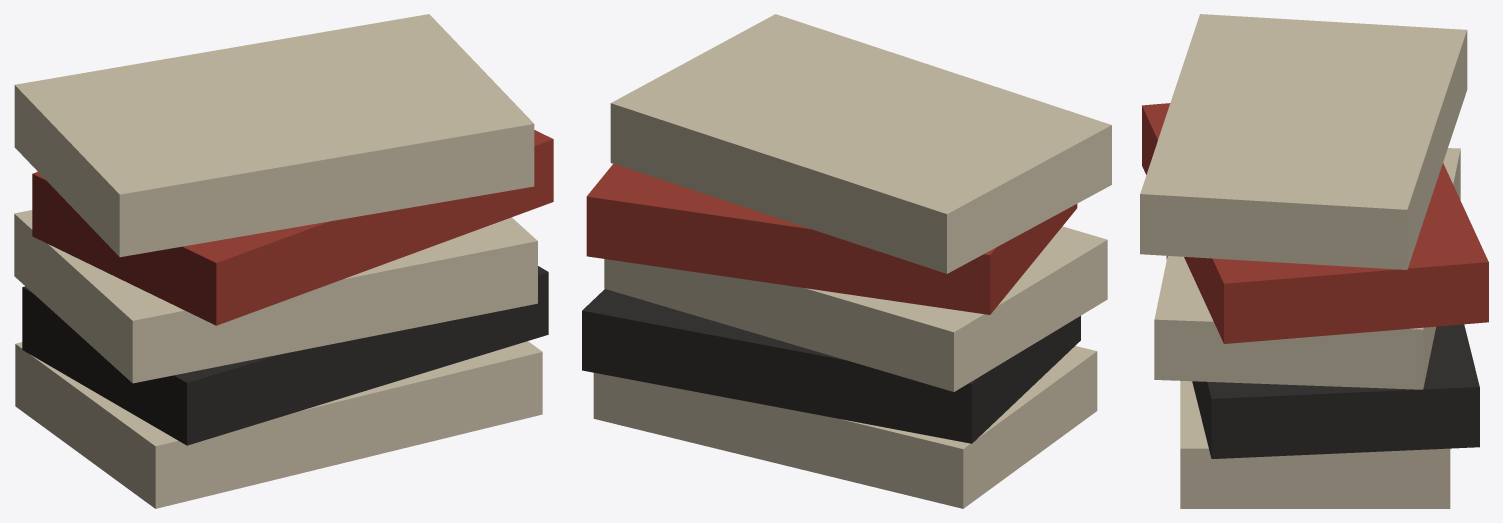
Rendered from cassette-stack.glb.
3 renders of one model, left to right at view 1: azimuth 30°, elevation 25°; view 2: azimuth 150°, elevation 25°; view 3: azimuth 270°, elevation 25°, orthographic. The views are drawn at different scales.
Parts seen in each view (by area): view 1: paper, plastic-dark, accent-warm; view 2: paper, plastic-dark, accent-warm; view 3: paper, accent-warm, plastic-dark.
Boxes of the visible parts, bbox=[...] form: paper: bbox=[14, 14, 542, 508]; plastic-dark: bbox=[22, 266, 548, 445]; accent-warm: bbox=[32, 130, 553, 325]; paper: bbox=[593, 14, 1111, 508]; plastic-dark: bbox=[582, 289, 1080, 443]; accent-warm: bbox=[586, 164, 1077, 314]; paper: bbox=[1140, 14, 1467, 508]; accent-warm: bbox=[1142, 103, 1488, 343]; plastic-dark: bbox=[1166, 256, 1479, 458].
Bounding box in the file's own units: 0.1268 × 0.085 × 0.0892.
